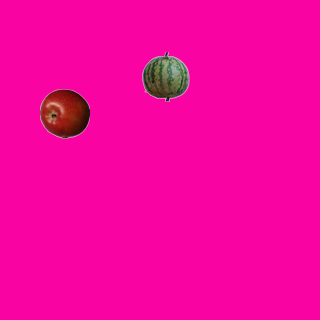Apple Braeburn: (39, 88, 89, 138)
Watermelon: (140, 51, 190, 101)
